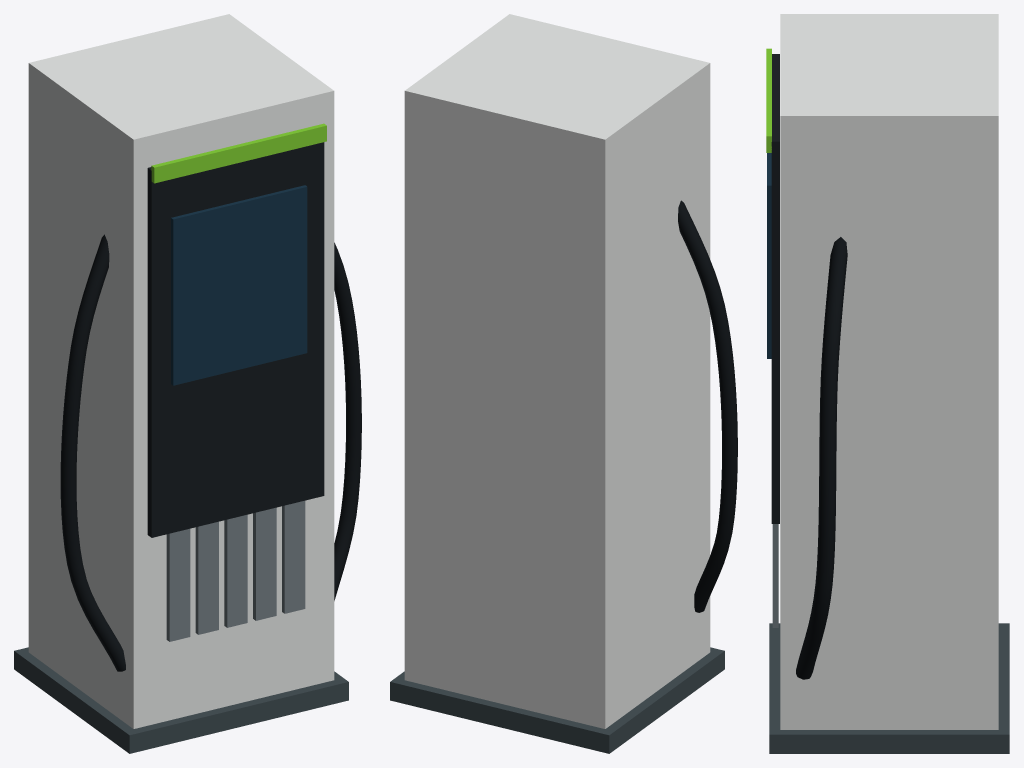
Rendered from alpitronic-hyc400-s2.glb.
The picture shows the model from 3 angles, left to right: view 1: azimuth 30°, elevation 25°; view 2: azimuth 150°, elevation 25°; view 3: azimuth 270°, elevation 25°; orthographic projection. The views are drawn at different scales.
Visible parts, largest first — view 1: Main cabinet, Front fascia, 22 inch display, Plinth, Left CCS cable, Right CCS cable, Brand accent, Cooling vent 1, Cooling vent 3, Cooling vent 4, Cooling vent 5, Cooling vent 2; view 2: Main cabinet, Plinth, Left CCS cable; view 3: Main cabinet, Plinth, Right CCS cable, Front fascia, 22 inch display, Cooling vent 5, Brand accent.
Boxes of the visible parts, x1,y1,x2,y2 form: Main cabinet: [28, 14, 334, 728]; Front fascia: [147, 142, 324, 537]; 22 inch display: [171, 185, 307, 385]; Plinth: [14, 647, 348, 753]; Left CCS cable: [60, 234, 125, 671]; Right CCS cable: [334, 242, 361, 600]; Brand accent: [151, 123, 326, 183]; Cooling vent 1: [166, 528, 190, 641]; Cooling vent 3: [224, 514, 247, 627]; Cooling vent 4: [253, 507, 276, 620]; Cooling vent 5: [282, 500, 305, 613]; Cooling vent 2: [195, 521, 218, 634]; Main cabinet: [404, 14, 710, 728]; Plinth: [390, 647, 724, 753]; Left CCS cable: [678, 200, 737, 612]; Main cabinet: [780, 14, 998, 729]; Plinth: [769, 623, 1009, 753]; Right CCS cable: [796, 237, 847, 679]; Front fascia: [771, 54, 779, 523]; 22 inch display: [767, 153, 771, 358]; Cooling vent 5: [772, 524, 778, 627]; Brand accent: [766, 48, 771, 152].
Bounding box in the file's own units: 1.09 × 2.12 × 0.739.
